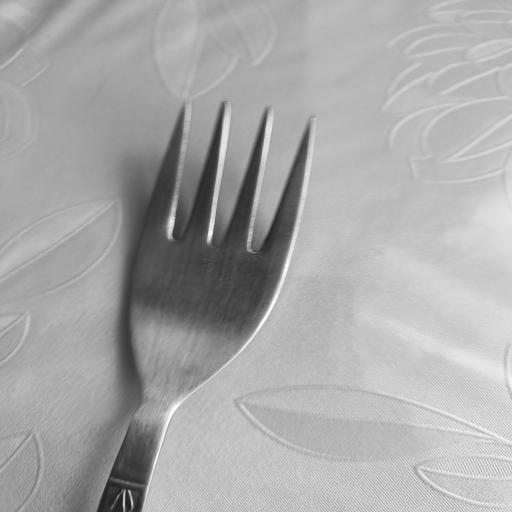fork: (86, 99, 324, 512)
